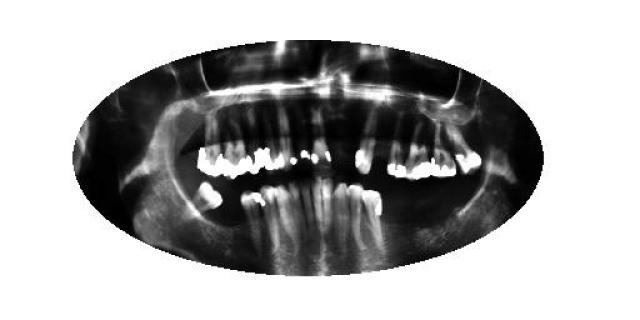Fillings: (196, 112, 224, 178), (445, 126, 483, 174), (224, 116, 250, 182), (354, 105, 378, 176), (241, 190, 264, 255), (406, 119, 430, 180), (432, 122, 458, 178), (388, 109, 407, 178), (362, 188, 383, 250), (312, 108, 332, 168), (264, 115, 284, 171), (248, 110, 264, 175)
